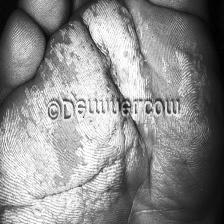Non-Cancerous Skin Condition: (7, 2, 151, 224), (172, 46, 222, 178)
